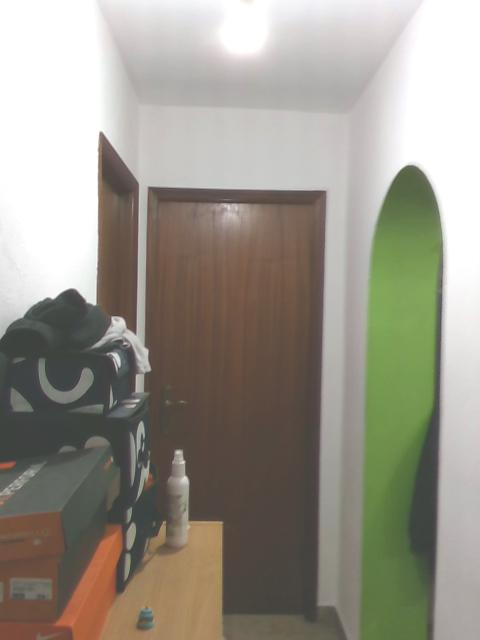closed_door: (145, 184, 324, 621)
